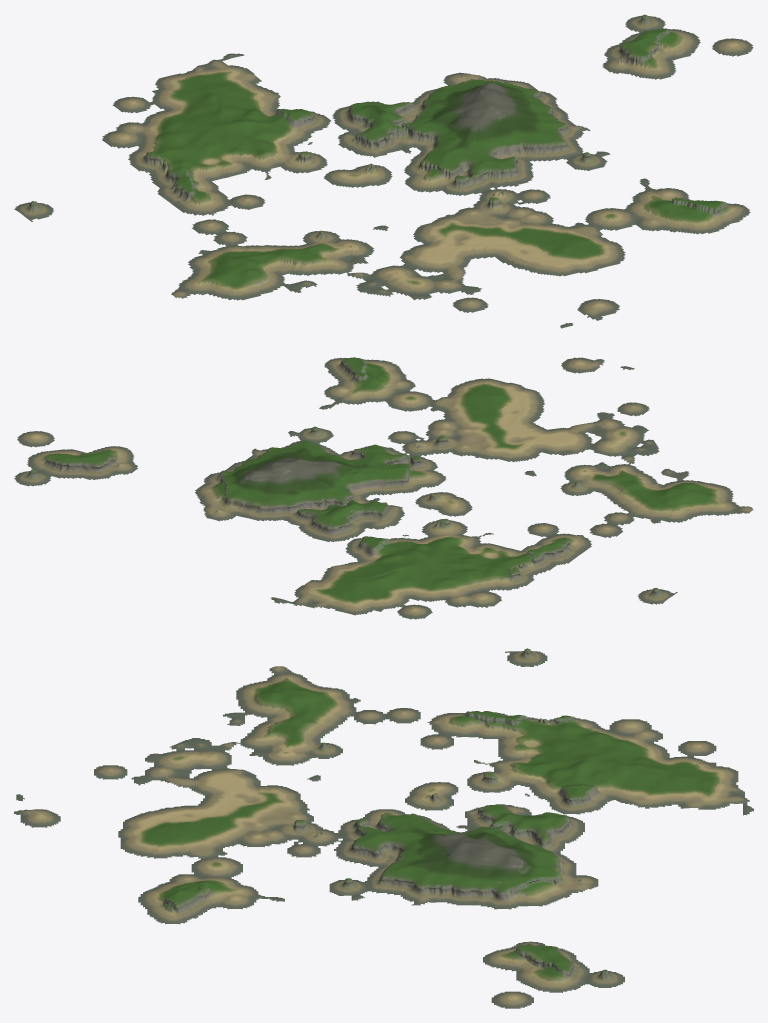
Rendered from arch_islands.glb.
The picture shows the model from 3 angles, top to bottom: view 1: azimuth 30°, elevation 25°; view 2: azimuth 150°, elevation 25°; view 3: azimuth 270°, elevation 25°; orthographic projection. The views are drawn at different scales.
Parts seen in each view (by area): view 1: arch_islands; view 2: arch_islands; view 3: arch_islands.
Part boxes in pixels (box(x1,y1,x2,y2)): arch_islands: box(14, 14, 753, 328); arch_islands: box(14, 357, 753, 619); arch_islands: box(14, 648, 753, 1008).
Bounding box in the file's own units: 2280 × 78.1 × 1998.
